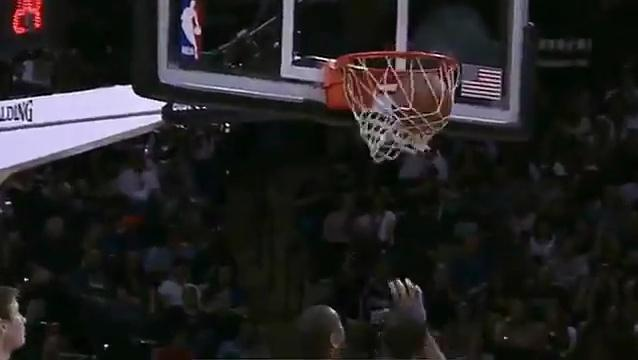Backboard: (129, 0, 542, 146)
Made Basket: (320, 49, 465, 161)
Shot Clock: (9, 0, 52, 46)
